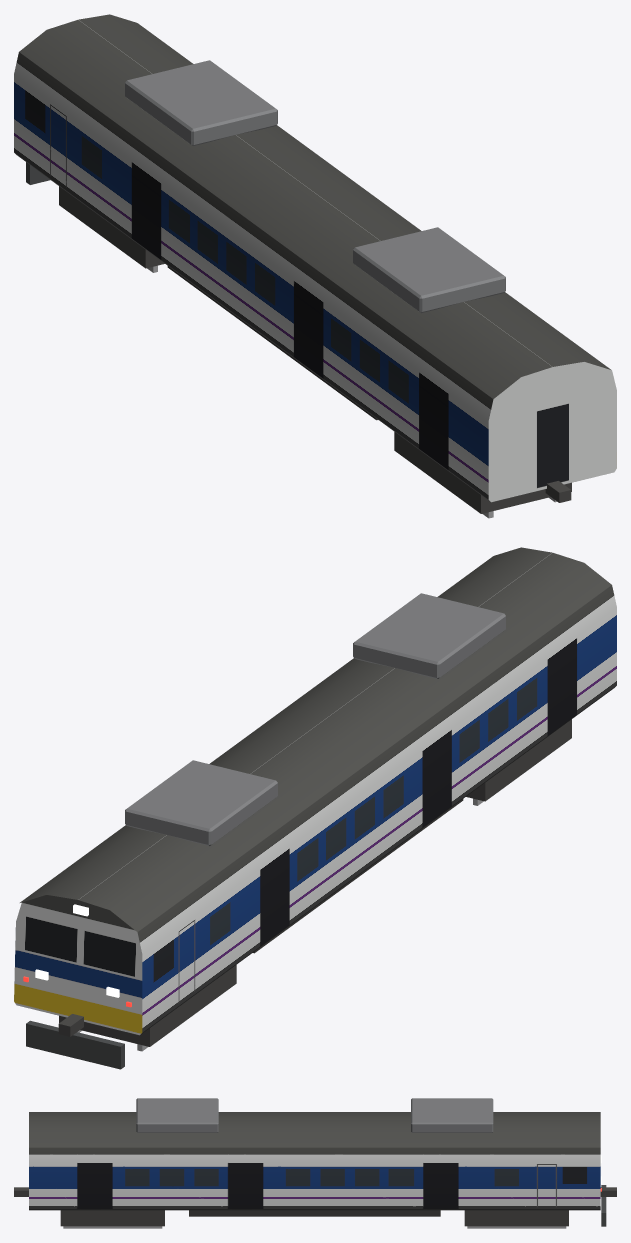
File: emu_ac_cab_lod1.glb
3 renders of one model, top to bottom at view 1: azimuth 30°, elevation 25°; view 2: azimuth 150°, elevation 25°; view 3: azimuth 270°, elevation 25°, orthographic. The views are drawn at different scales.
Visible parts, largest first — view 1: body; view 2: body; view 3: body.
Part boxes in pixels (x1=…): body: x1=14, y1=14, x2=616, y2=518; body: x1=14, y1=547, x2=616, y2=1069; body: x1=14, y1=1098, x2=616, y2=1228.
Bounding box in the file's own units: 3.25 × 4.33 × 21.95.
Materials: 2 (2 with a texture image).
